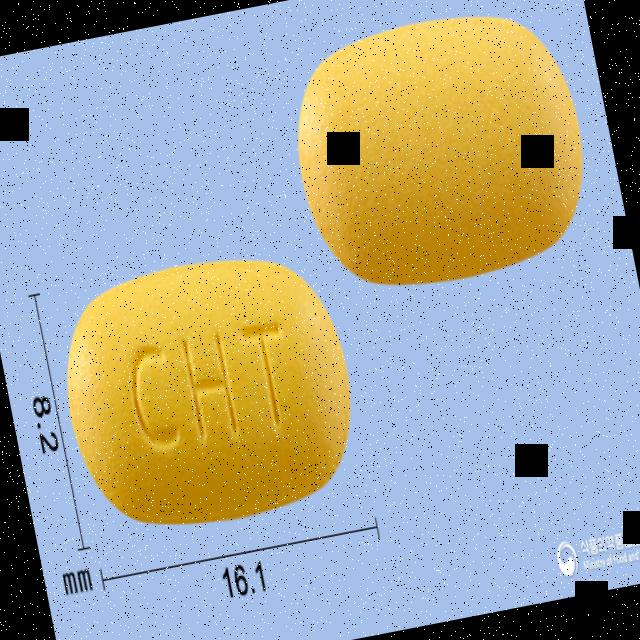Croracin: (47, 237, 372, 544)
